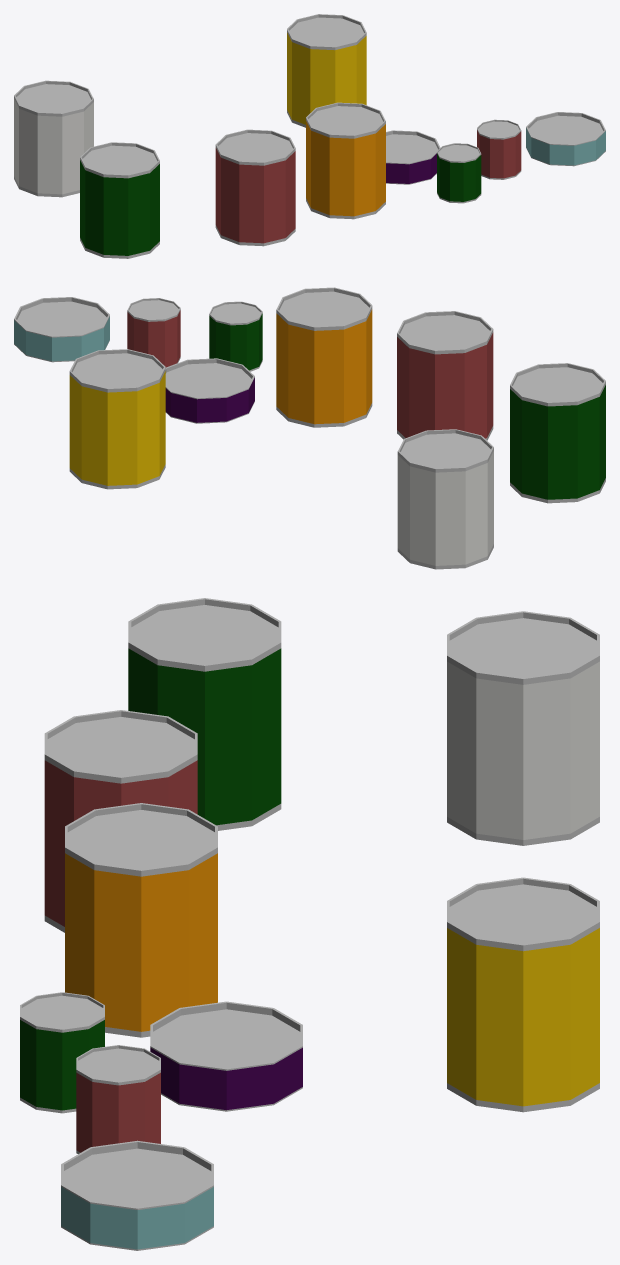
File: CannedGoods.fbx
The picture shows the model from 3 angles, top to bottom: view 1: azimuth 30°, elevation 25°; view 2: azimuth 150°, elevation 25°; view 3: azimuth 270°, elevation 25°; orthographic projection. The views are drawn at different scales.
Parts seen in each view (by area): view 1: Can8, Can7, Can3, Can5, Can, Can4, Can1, Can6, Can2; view 2: Can5, Can, Can3, Can7, Can8, Can4, Can1, Can6, Can2; view 3: Can5, Can, Can3, Can7, Can8, Can4, Can1, Can2, Can6.
Part boxes in pixels (x1,y1,x2,y2): Can8: (215,129,295,246); Can7: (80,142,159,258); Can3: (306,102,385,219); Can5: (14,80,93,197); Can: (287,14,366,127); Can4: (526,112,605,166); Can1: (386,130,440,184); Can6: (437,143,481,203); Can2: (477,119,521,179); Can5: (397,429,493,569); Can: (69,349,165,489); Can3: (276,287,372,427); Can7: (510,363,605,503); Can8: (397,311,493,440); Can4: (14,297,109,362); Can1: (165,358,254,423); Can6: (209,301,262,371); Can2: (127,298,180,367); Can5: (447,611,599,845); Can: (447,877,599,1112); Can3: (65,803,217,1037); Can7: (128,598,281,830); Can8: (44,710,197,932); Can4: (61,1140,213,1250); Can1: (150,1001,302,1111); Can2: (76,1045,160,1153); Can6: (20,992,104,1113).
Size of the model in its own units: 0.9544 by 0.1526 by 0.4804.
